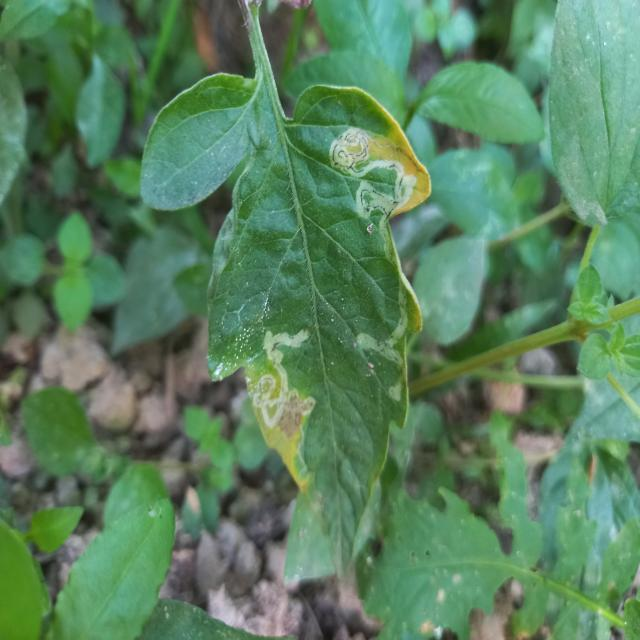Tuta absoluta: (309, 119, 424, 233), (250, 330, 316, 447), (357, 269, 408, 401), (377, 218, 401, 270), (275, 438, 302, 468)
